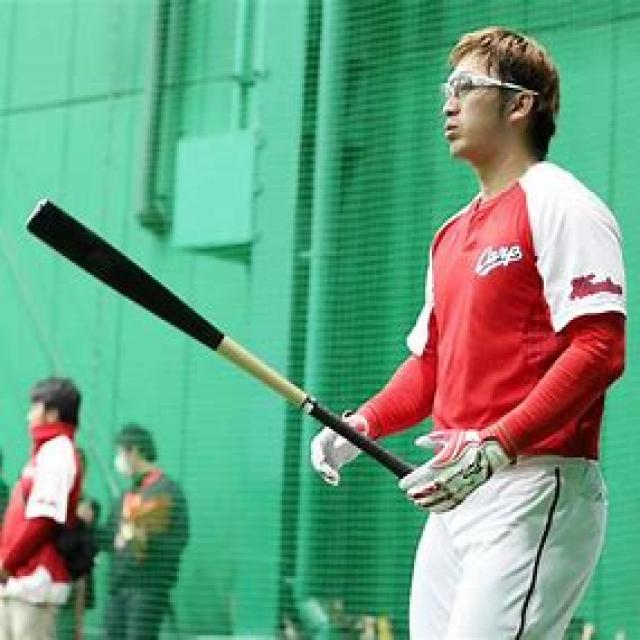bat: (18, 187, 430, 486)
